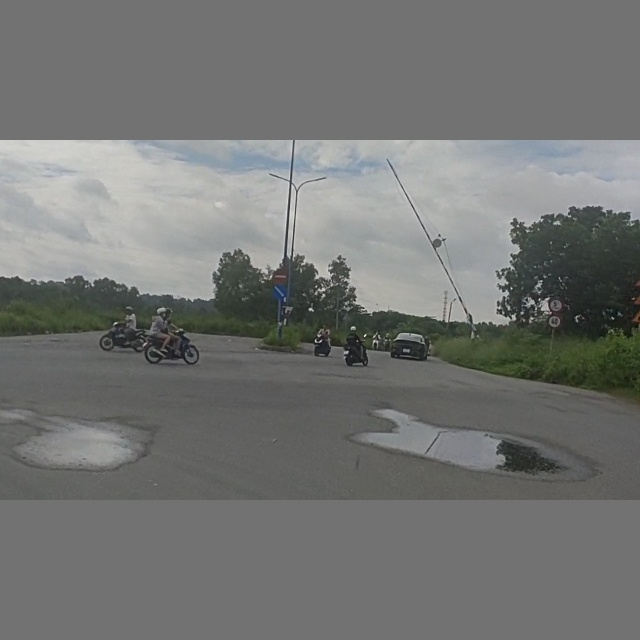P.102: (273, 268, 291, 284)
P.127*40: (548, 312, 562, 328)
R.302a: (272, 284, 289, 301)
